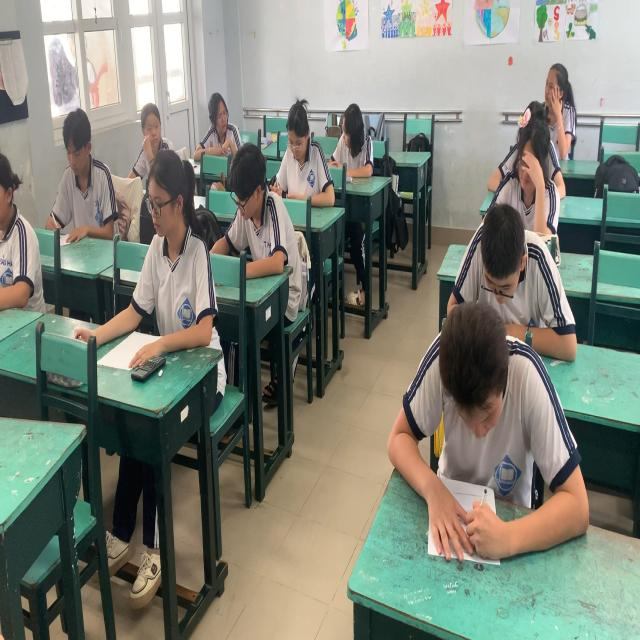cheating: (203, 85, 246, 166), (334, 92, 369, 184)
not_cheating: (421, 302, 564, 524), (136, 143, 212, 364), (218, 132, 286, 298), (464, 197, 560, 313), (55, 99, 124, 242), (276, 89, 331, 218), (492, 112, 558, 204), (539, 50, 575, 144), (132, 91, 170, 178)
